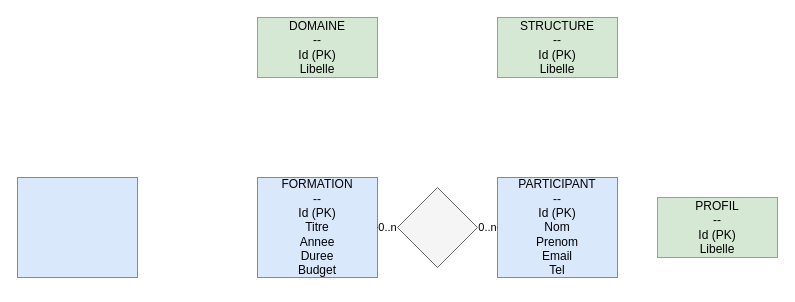
Image size: 795x302. Some labels were removed from this diagram. Each missing label, with the centre of its shape:
"FORMATEUR -- Id (PK) Nom Prenom Email Tel Type" belongs at point (77, 227).
"Inscrire" belongs at point (437, 227).
